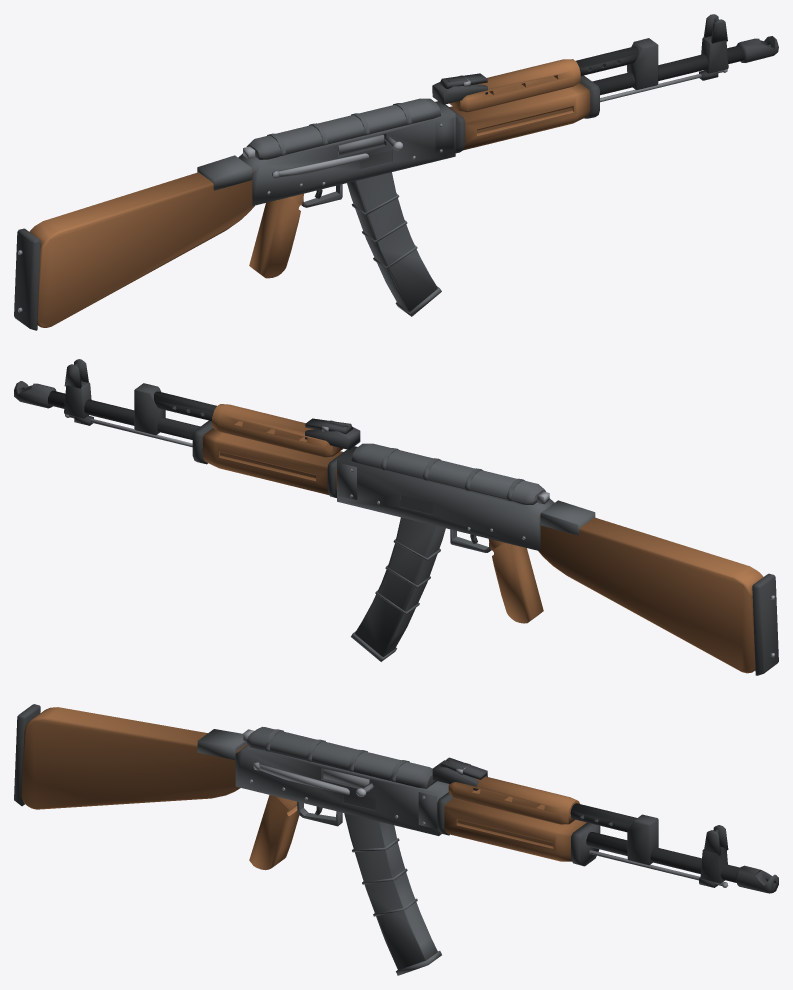
3 views of the same model, one above another, from view 1: azimuth 30°, elevation 25°; view 2: azimuth 150°, elevation 25°; view 3: azimuth 330°, elevation 25° (orthographic).
Visible parts, largest first — view 1: lod_skin_wood, lod_skin_paint, lod_metal_dark, lod_metal_steel; view 2: lod_skin_wood, lod_skin_paint, lod_metal_dark, lod_metal_steel; view 3: lod_skin_wood, lod_skin_paint, lod_metal_dark, lod_metal_steel.
Part boxes in pixels (left/top/right/bottom): lod_skin_wood: left=29, top=59, right=590, bottom=327; lod_skin_paint: left=197, top=98, right=455, bottom=316; lod_metal_dark: left=14, top=14, right=778, bottom=330; lod_metal_steel: left=18, top=69, right=727, bottom=312; lod_skin_wood: left=202, top=404, right=763, bottom=673; lod_skin_paint: left=337, top=443, right=595, bottom=661; lod_metal_dark: left=14, top=359, right=778, bottom=675; lod_metal_steel: left=65, top=414, right=774, bottom=657; lod_skin_wood: left=21, top=707, right=586, bottom=870; lod_skin_paint: left=197, top=726, right=448, bottom=975; lod_metal_dark: left=14, top=704, right=778, bottom=893; lod_metal_steel: left=243, top=729, right=728, bottom=887.
Bounding box in the file's own units: 1.17 × 0.3266 × 0.0843.
